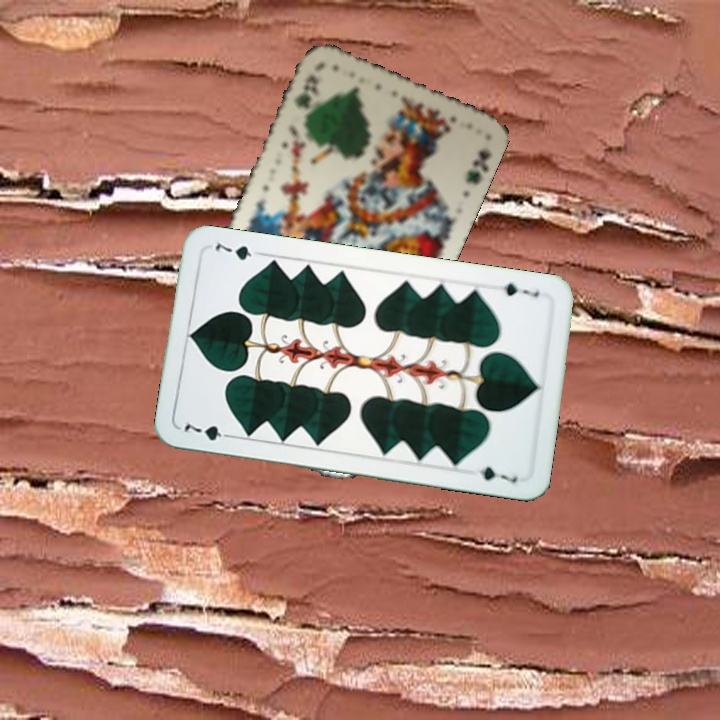G7: (180, 419, 237, 443), (499, 279, 542, 299)
GK: (290, 71, 321, 112)
